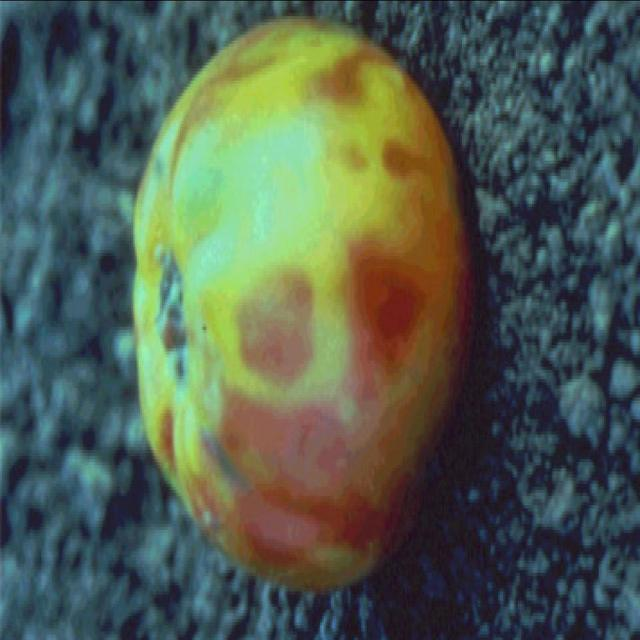Spotted wilt Virus Fruit: (31, 120, 171, 483)
